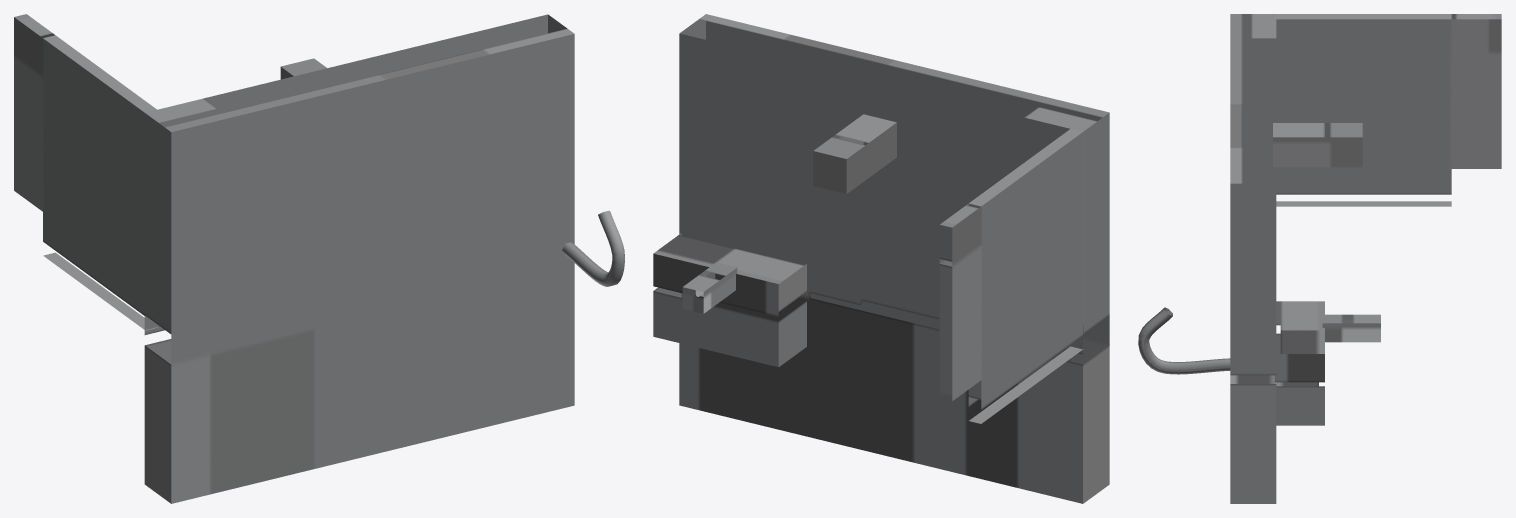
3 views of the same model, side by side, from view 1: azimuth 30°, elevation 25°; view 2: azimuth 150°, elevation 25°; view 3: azimuth 270°, elevation 25° (orthographic). The views are drawn at different scales.
Bounding box in the file's own units: 0.965 × 0.85 × 0.8734.
